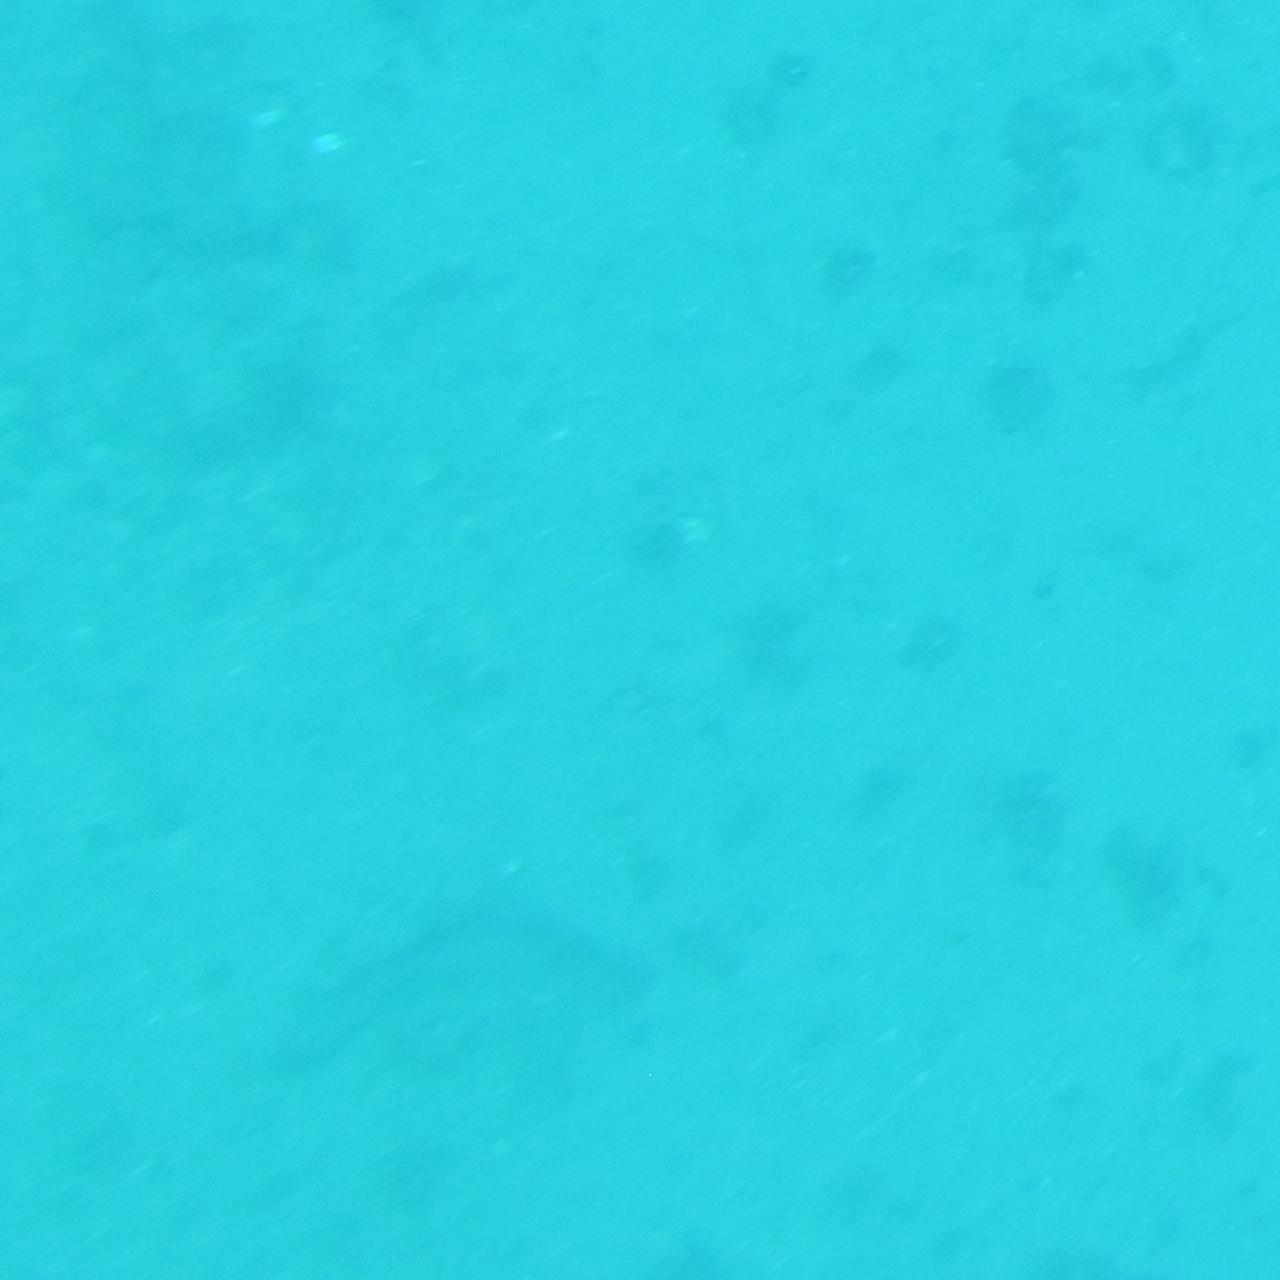Holothuria tubulosa: (247, 920, 659, 1118)
